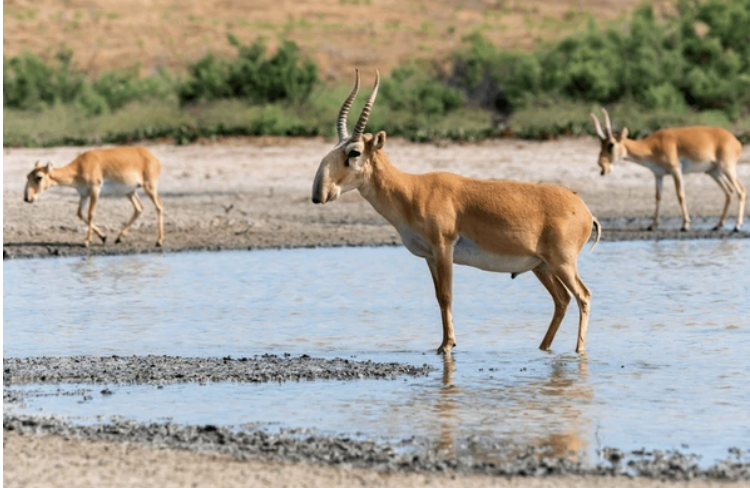saiga: (310, 57, 602, 356)
